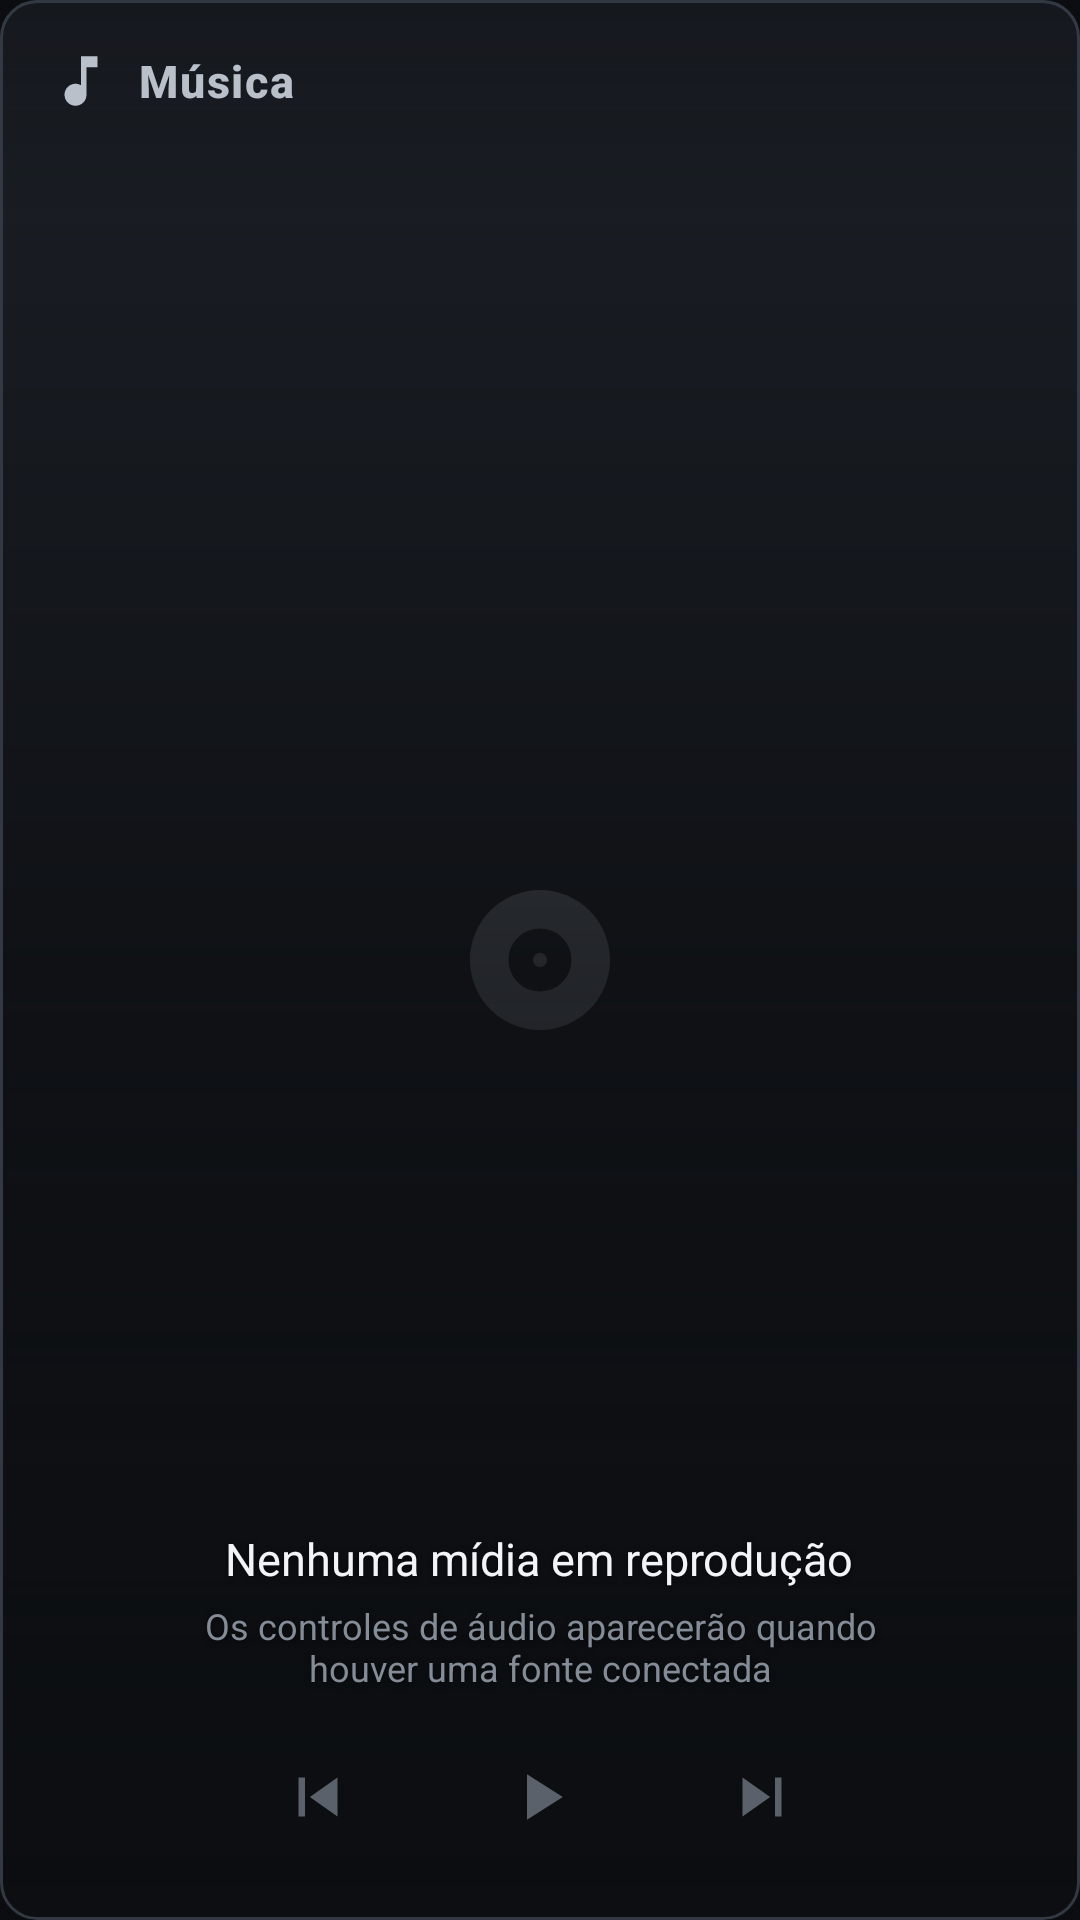

Where icons sit on this 1080*1920 app screen, as (x1, y1, x2, y2):
Faixa anterior: (298, 1777, 338, 1817)
Próxima faixa: (742, 1777, 782, 1817)
Reproduzir ou pausar: (527, 1774, 562, 1820)
